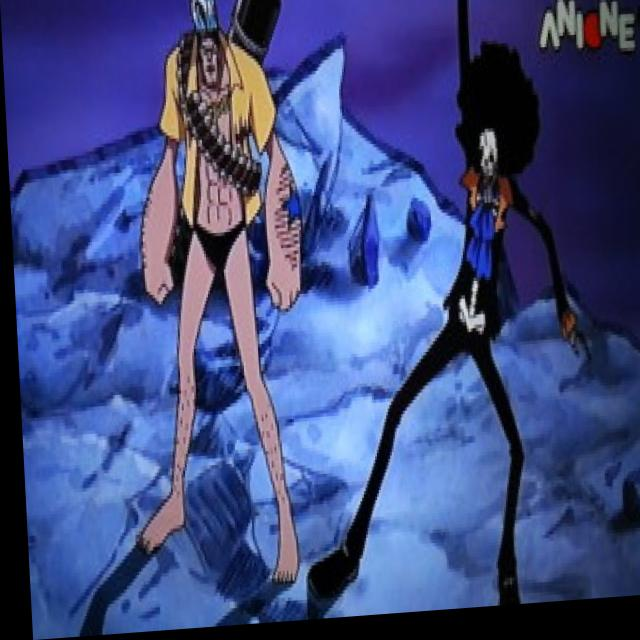Blook: (447, 35, 528, 238)
Franky: (188, 0, 227, 92)
